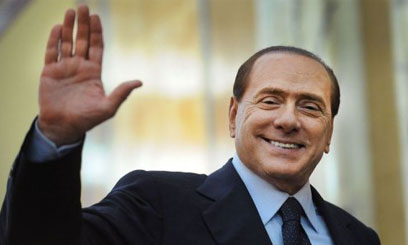open_hand: (24, 2, 167, 138)
